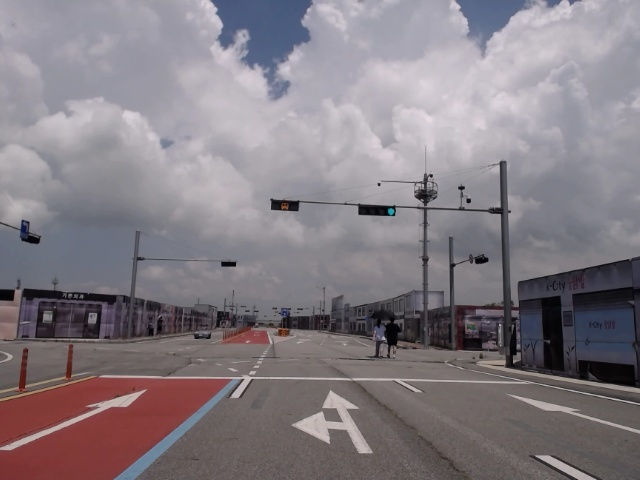straight_green_4: (357, 205, 399, 215)
